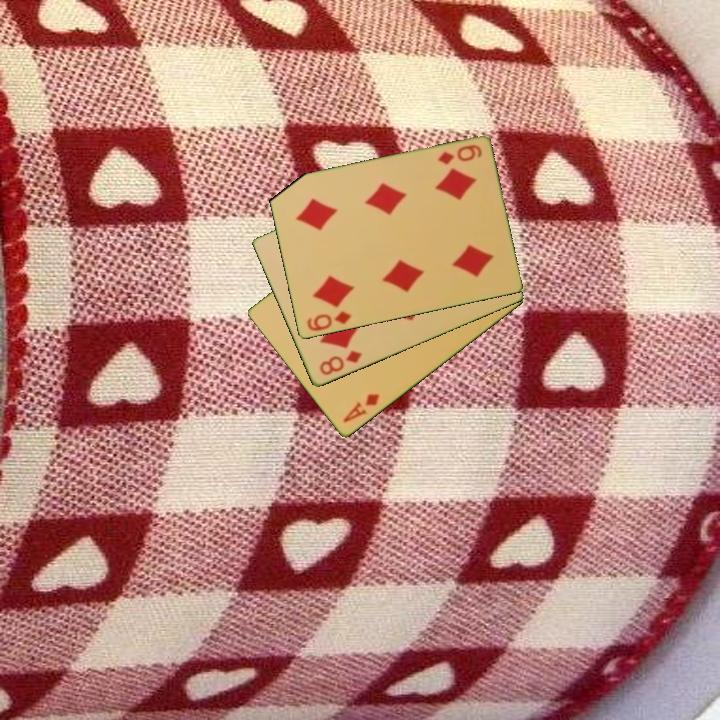6d: (434, 141, 485, 168), (303, 308, 354, 334)
8d: (316, 347, 365, 379)
Ad: (339, 390, 382, 426)
